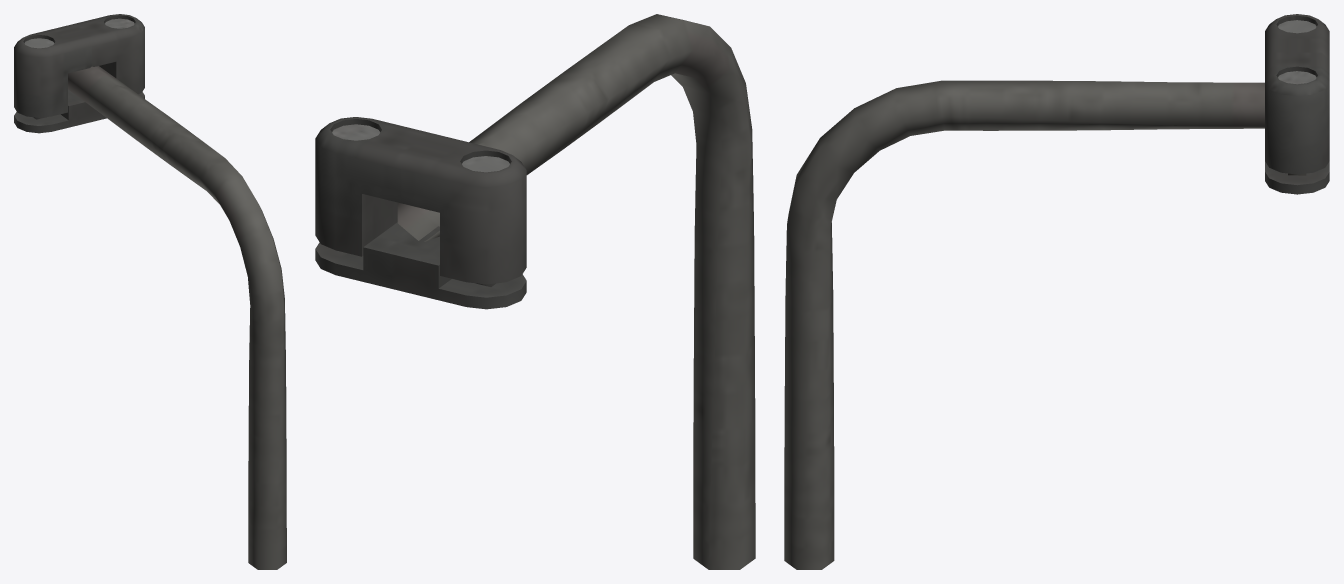
Rendered from cable_corner_away.gltf.
The picture shows the model from 3 angles, left to right: view 1: azimuth 30°, elevation 25°; view 2: azimuth 150°, elevation 25°; view 3: azimuth 270°, elevation 25°; orthographic projection. The views are drawn at different scales.
Visible parts, largest first — view 1: cable_corner_away; view 2: cable_corner_away; view 3: cable_corner_away.
Boxes of the visible parts, x1,y1,x2,y2 form: cable_corner_away: (14,14,286,569); cable_corner_away: (315,14,755,569); cable_corner_away: (784,14,1329,569).
Bounding box in the file's own units: 0.0416 × 0.1259 × 0.1219.
1 material, 1 textured.
